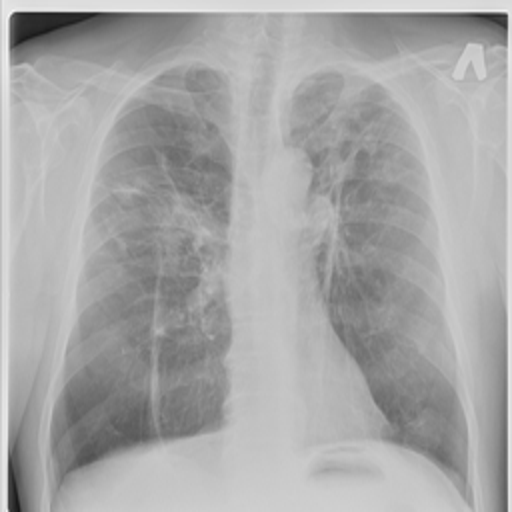TB: (319, 112, 412, 255)
